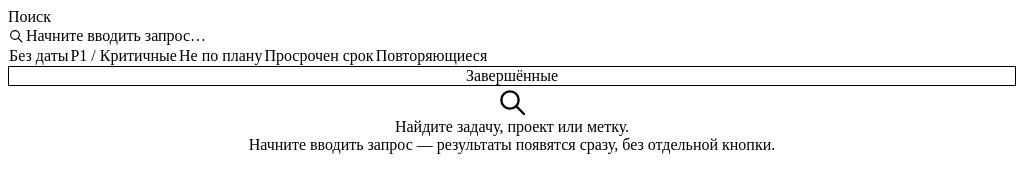
Test: Search — переходы по клику › метки находятся поиском, но не кликабельны (вне объёма — нет экрана управления метками)
This screenshot has width=1024, height=171.
Type "Важное" into the field named "Поиск по задачам, проектам и меткам" at (520, 36), box x1=24 y1=26 x2=1016 y2=46
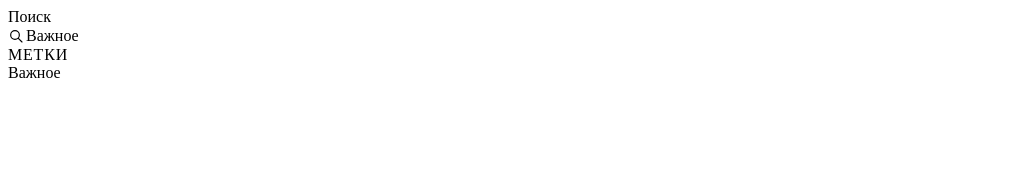
Now the text "Важное" is shown, box x1=8 y1=64 x2=61 y2=82
